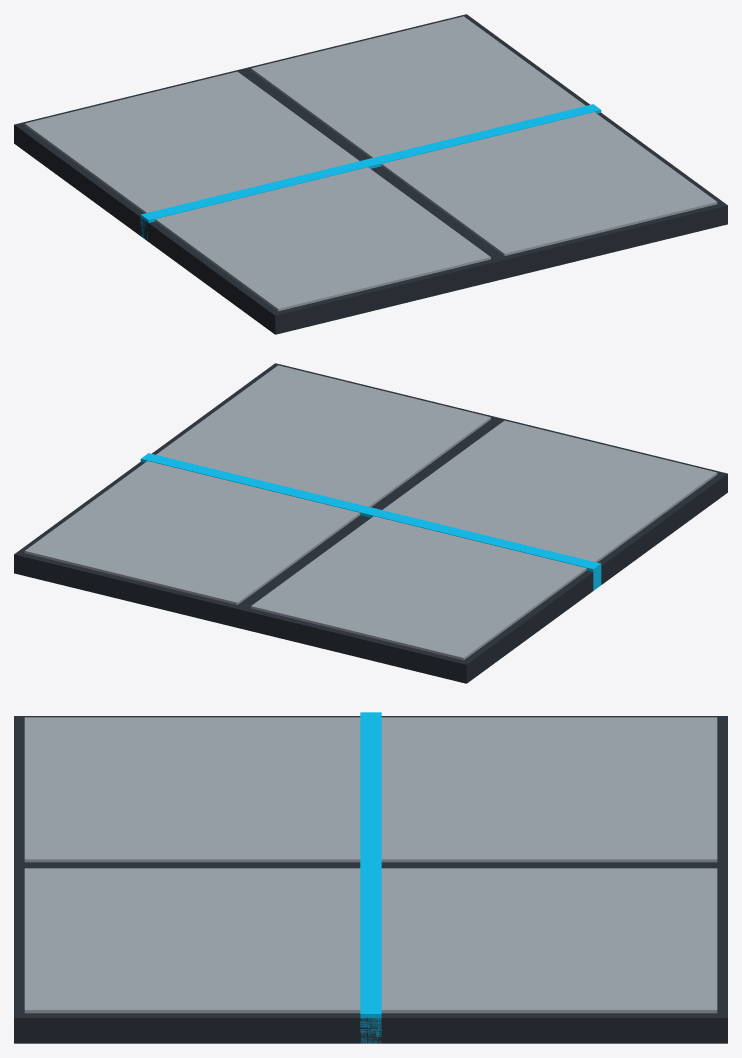
File: floor_panel.obj
The picture shows the model from 3 angles, top to bottom: view 1: azimuth 30°, elevation 25°; view 2: azimuth 150°, elevation 25°; view 3: azimuth 270°, elevation 25°; orthographic projection. The views are drawn at different scales.
Visible parts, largest first — view 1: floor_panel; view 2: floor_panel; view 3: floor_panel.
Part boxes in pixels (x1,y1,x2,y2): floor_panel: [14, 14, 727, 334]; floor_panel: [14, 363, 727, 683]; floor_panel: [14, 712, 727, 1043].
Size of the model in its own units: 2 by 0.092 by 2.
